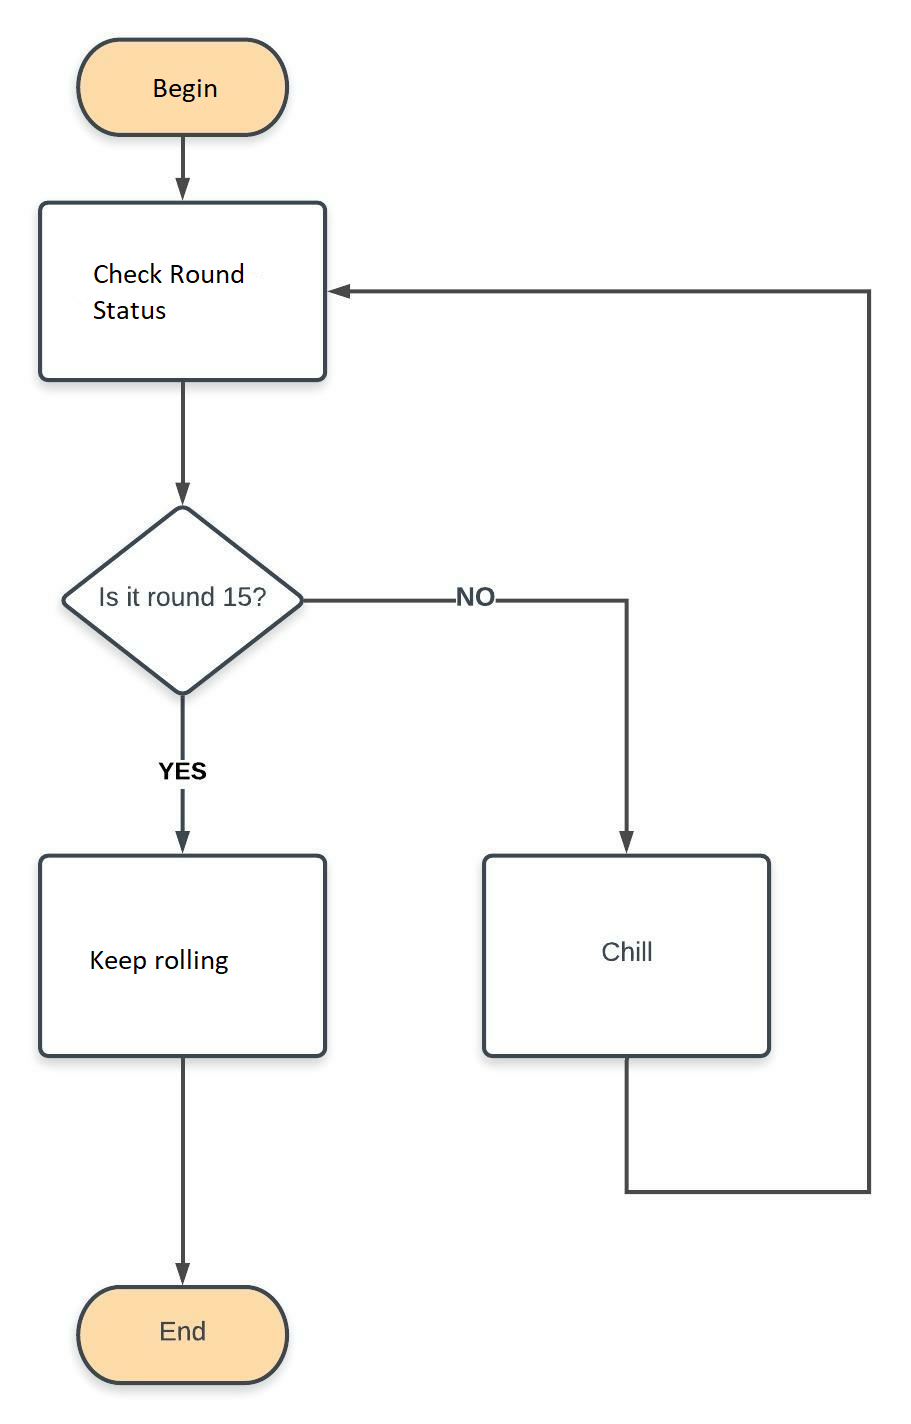arrow: (330, 282, 882, 1198), (303, 595, 636, 856), (169, 1058, 197, 1280), (169, 695, 197, 852), (171, 378, 195, 515), (171, 137, 197, 195)
decision: (60, 504, 306, 693)
process: (477, 848, 782, 1067), (28, 848, 332, 1065), (32, 195, 334, 384)
terminator: (75, 1282, 295, 1389), (75, 34, 293, 139)
text: (82, 256, 249, 328), (84, 941, 232, 982), (95, 582, 269, 615), (151, 74, 223, 106), (153, 1315, 212, 1350), (590, 937, 656, 967), (449, 582, 497, 613), (156, 756, 212, 782)
